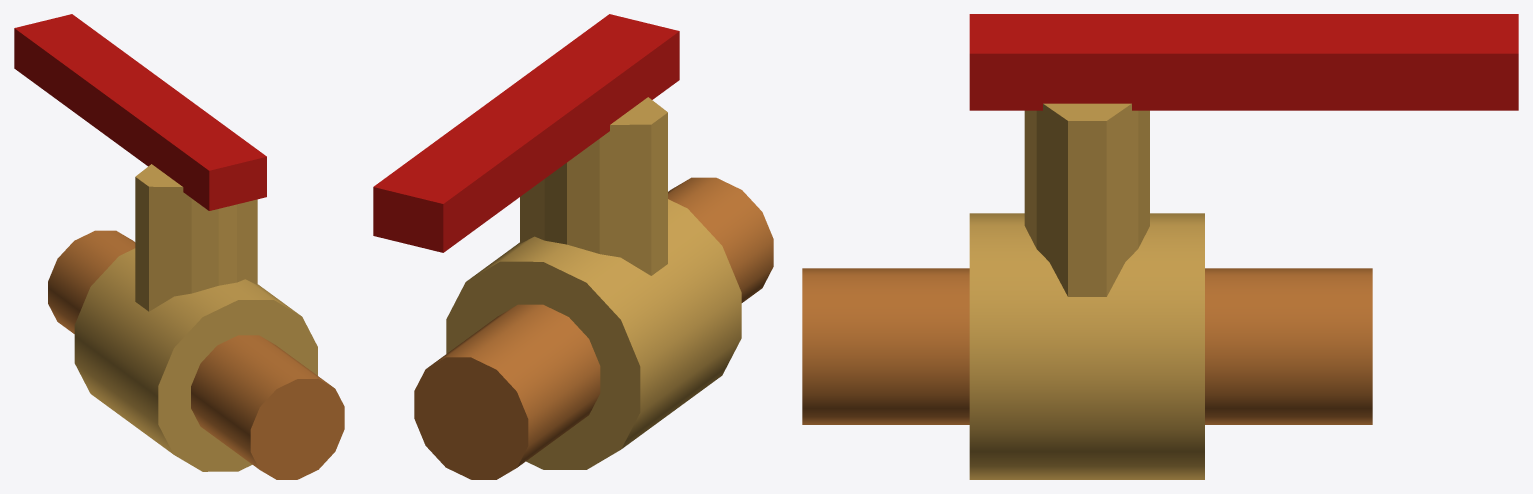
Rendered from services.pipe.valve_22.glb.
3 views of the same model, side by side, from view 1: azimuth 30°, elevation 25°; view 2: azimuth 150°, elevation 25°; view 3: azimuth 270°, elevation 25° (orthographic). The views are drawn at different scales.
Parts seen in each view (by area): view 1: main__brass, main__plastic_red, main__copper; view 2: main__brass, main__plastic_red, main__copper; view 3: main__brass, main__copper, main__plastic_red.
Part boxes in pixels (x1=…): main__brass: x1=74, y1=164, x2=317, y2=471; main__plastic_red: x1=14, y1=14, x2=266, y2=210; main__copper: x1=48, y1=230, x2=344, y2=479; main__brass: x1=446, y1=97, x2=741, y2=469; main__plastic_red: x1=373, y1=14, x2=679, y2=252; main__copper: x1=414, y1=177, x2=773, y2=479; main__brass: x1=969, y1=103, x2=1204, y2=479; main__copper: x1=802, y1=268, x2=1372, y2=424; main__plastic_red: x1=969, y1=14, x2=1518, y2=110.
Bounding box in the file's own units: 0.0365 × 0.0671 × 0.1005.
